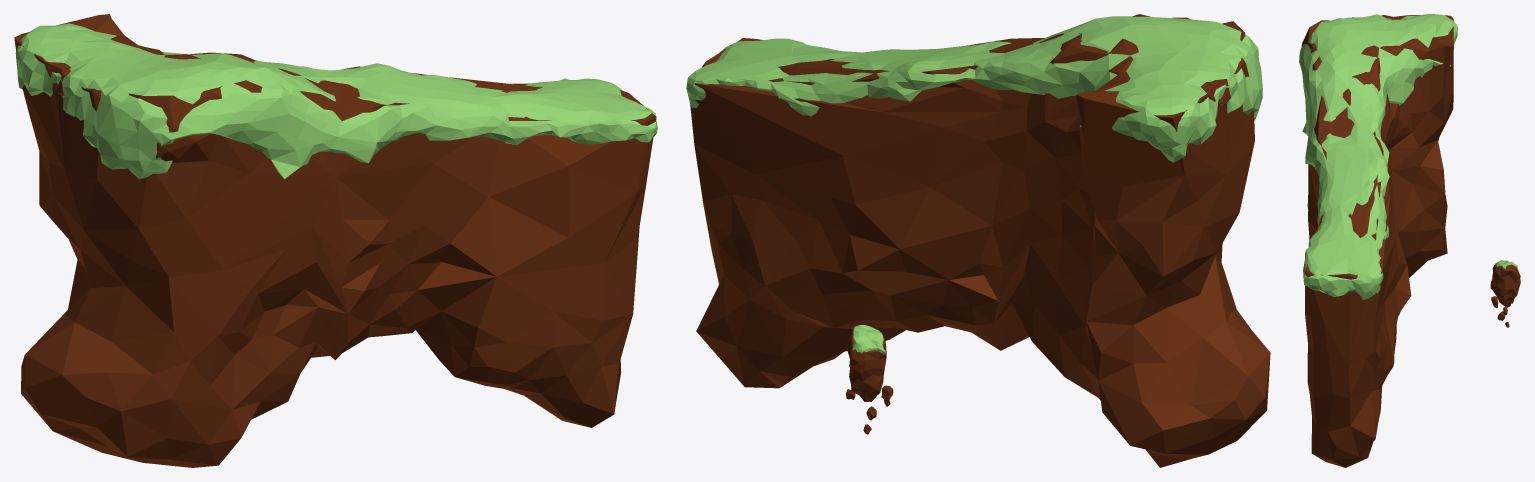
File: Uno_Isola3.fbx
3 renders of one model, left to right at view 1: azimuth 30°, elevation 25°; view 2: azimuth 150°, elevation 25°; view 3: azimuth 270°, elevation 25°, orthographic. The views are drawn at different scales.
Parts seen in each view (by area): view 1: Plane.003, Plane.017; view 2: Plane.003, Plane.017, Sphere.042, Sphere.043; view 3: Plane.003, Plane.017, Sphere.042.
Boxes of the visible parts, <box> form: Plane.003: <box>14,14,656,467</box>; Plane.017: <box>15,23,657,179</box>; Plane.003: <box>690,14,1270,467</box>; Plane.017: <box>686,16,1262,162</box>; Sphere.042: <box>847,328,886,401</box>; Sphere.043: <box>852,325,885,353</box>; Plane.003: <box>1301,15,1453,467</box>; Plane.017: <box>1299,14,1457,299</box>; Sphere.042: <box>1490,264,1520,307</box>.
Bounding box in the file's own units: 678 × 499 × 337.
